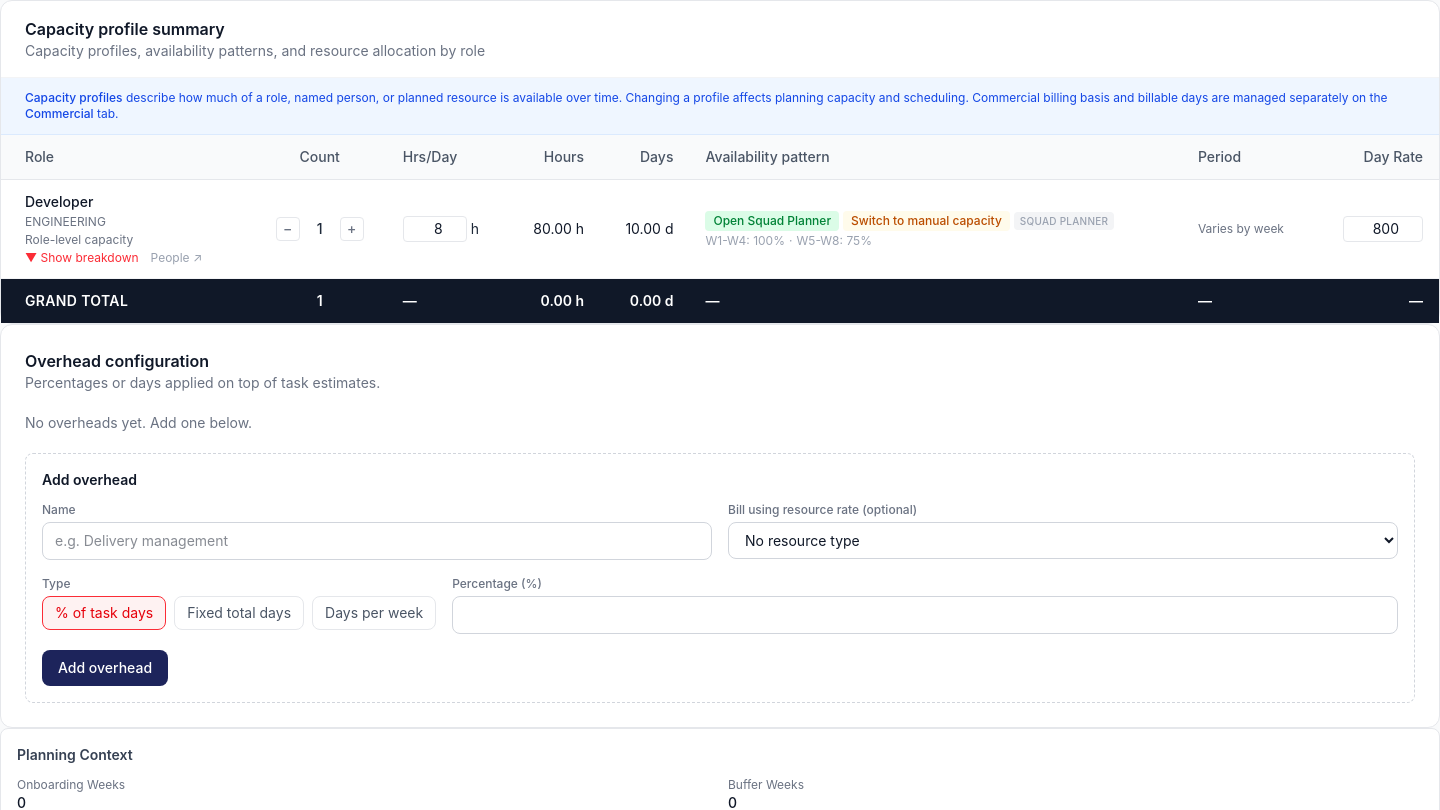
Test: Switch to manual capacity › shows confirmation dialog with expected content on click
Click the button titled "Transfer this role" at (926, 220), box [843,210,1010,230]
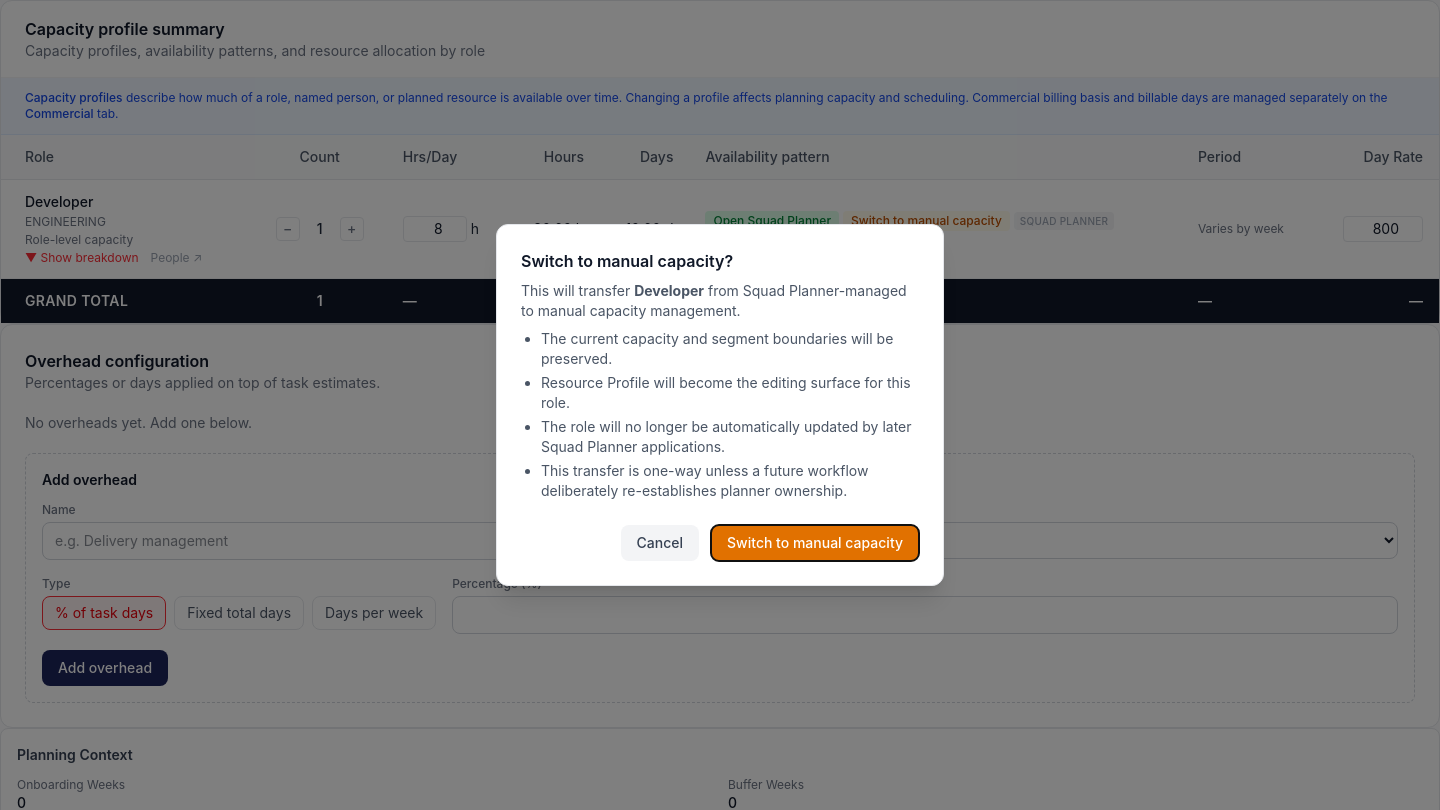
Result: the dialog "Switch to manual capacity" is shown
Result: the 1st list item is shown at [541,330,893,367]
Result: the 2nd list item is shown at [541,374,911,411]
